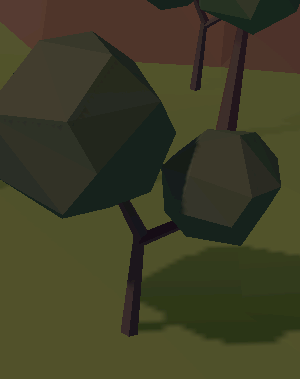tree: (1, 32, 282, 339), (200, 1, 298, 142), (147, 1, 230, 91)
